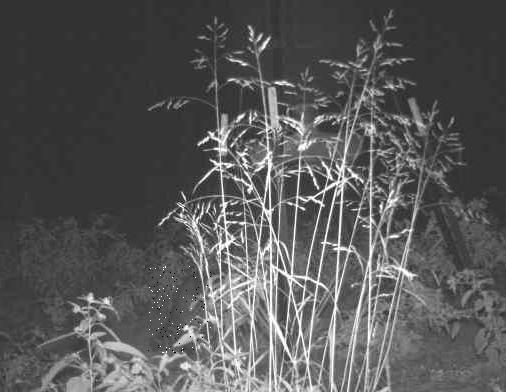Raccoon: (149, 267, 212, 354)
